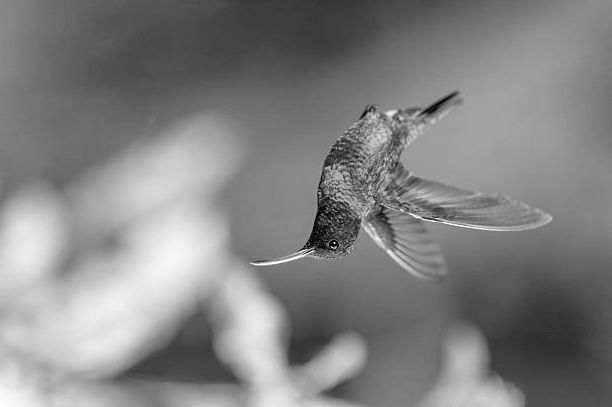Bird: (246, 83, 556, 287)
